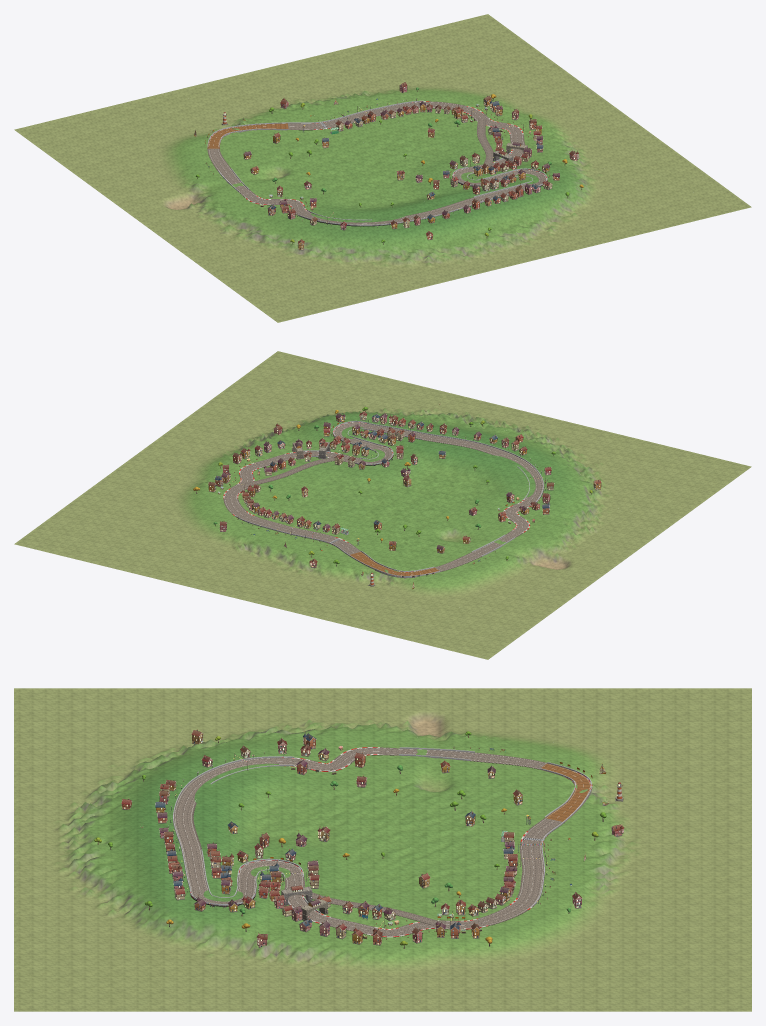
The model's file is porto-lanternas.glb.
3 views of the same model, one above another, from view 1: azimuth 30°, elevation 25°; view 2: azimuth 150°, elevation 25°; view 3: azimuth 270°, elevation 25° (orthographic). The views are drawn at different scales.
Visible parts, largest first — view 1: terrain25, terrain18, terrain12, terrain24, terrain6, terrain4, terrain0, terrain1, terrain3, terrain26, terrain28, terrain14 (+34 smaller); view 2: terrain20, terrain12, terrain18, terrain2, terrain6, terrain3, terrain4, terrain24, terrain0, terrain1, terrain7, terrain15 (+38 smaller); view 3: terrain28, terrain1, terrain10, terrain3, terrain0, terrain4, terrain2, terrain14, terrain6, terrain24, terrain15, terrain20 (+50 smaller).
Part boxes in pixels (box(x1,y1,x2,y2)): terrain25: box(283, 216, 410, 281); terrain18: box(155, 207, 282, 266); terrain12: box(108, 175, 235, 232); terrain24: box(202, 245, 329, 301); terrain6: box(61, 144, 188, 198); terrain4: box(339, 30, 466, 84); terrain0: box(14, 110, 141, 163); terrain1: box(96, 90, 221, 144); terrain3: box(258, 50, 385, 102); terrain26: box(364, 196, 491, 259); terrain28: box(527, 168, 654, 221); terrain14: box(270, 134, 397, 187); terrain20: box(385, 452, 512, 511); terrain12: box(501, 531, 628, 590); terrain18: box(548, 500, 675, 556); terrain2: box(244, 565, 370, 620); terrain6: box(454, 568, 581, 625); terrain3: box(163, 546, 290, 600); terrain4: box(82, 526, 209, 580); terrain24: box(595, 468, 722, 522); terrain0: box(407, 606, 534, 659); terrain1: box(326, 586, 453, 639); terrain7: box(374, 546, 500, 605); terrain15: box(259, 471, 384, 525); terrain28: box(96, 895, 227, 965); terrain1: box(620, 743, 751, 799); terrain10: box(489, 903, 620, 965); terrain3: box(620, 853, 751, 909); terrain0: box(620, 688, 751, 743); terrain4: box(620, 910, 751, 965); terrain2: box(620, 799, 751, 854); terrain14: box(358, 791, 489, 848); terrain6: box(489, 688, 620, 743); terrain24: box(96, 688, 227, 743); terrain15: box(358, 846, 489, 903); terrain20: box(227, 784, 358, 847).
Size of what is drawn, in the model's own units: 700 by 58.3 by 675.
34 materials, 20 textured.
